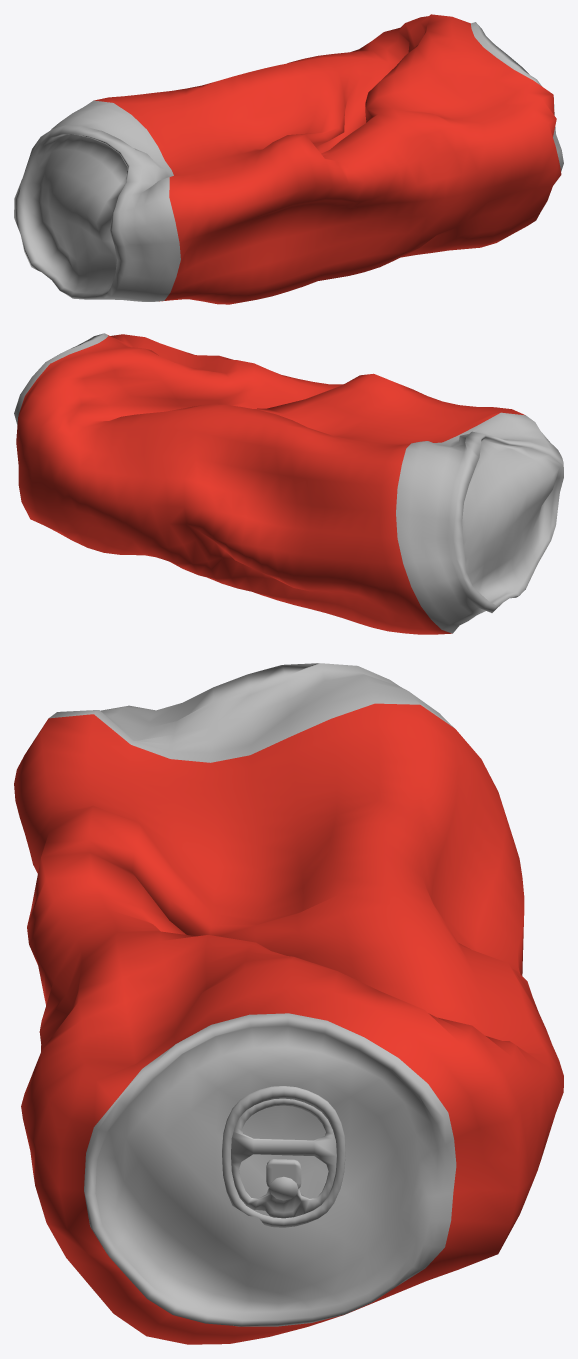
The model's file is CanDamageMedium.fbx.
The picture shows the model from 3 angles, top to bottom: view 1: azimuth 30°, elevation 25°; view 2: azimuth 150°, elevation 25°; view 3: azimuth 270°, elevation 25°; orthographic projection. The views are drawn at different scales.
Parts seen in each view (by area): view 1: CanDamageMedium; view 2: CanDamageMedium; view 3: CanDamageMedium.
Boxes of the visible parts, x1,y1,x2,y2 form: CanDamageMedium: (14,14,563,304); CanDamageMedium: (14,333,563,634); CanDamageMedium: (14,663,563,1344).
Bounding box in the file's own units: 6.16 × 11.23 × 4.45.
